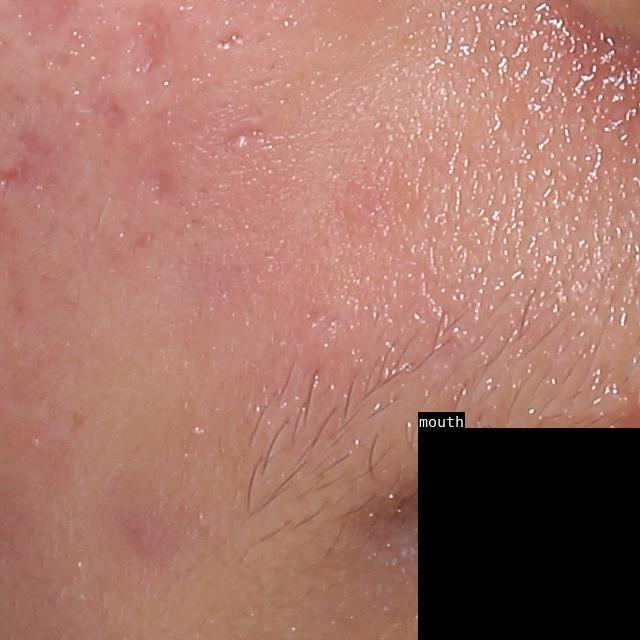atrophic_scar: (133, 8, 174, 82), (83, 93, 138, 138), (143, 165, 181, 207), (220, 125, 274, 148), (213, 28, 251, 56)
